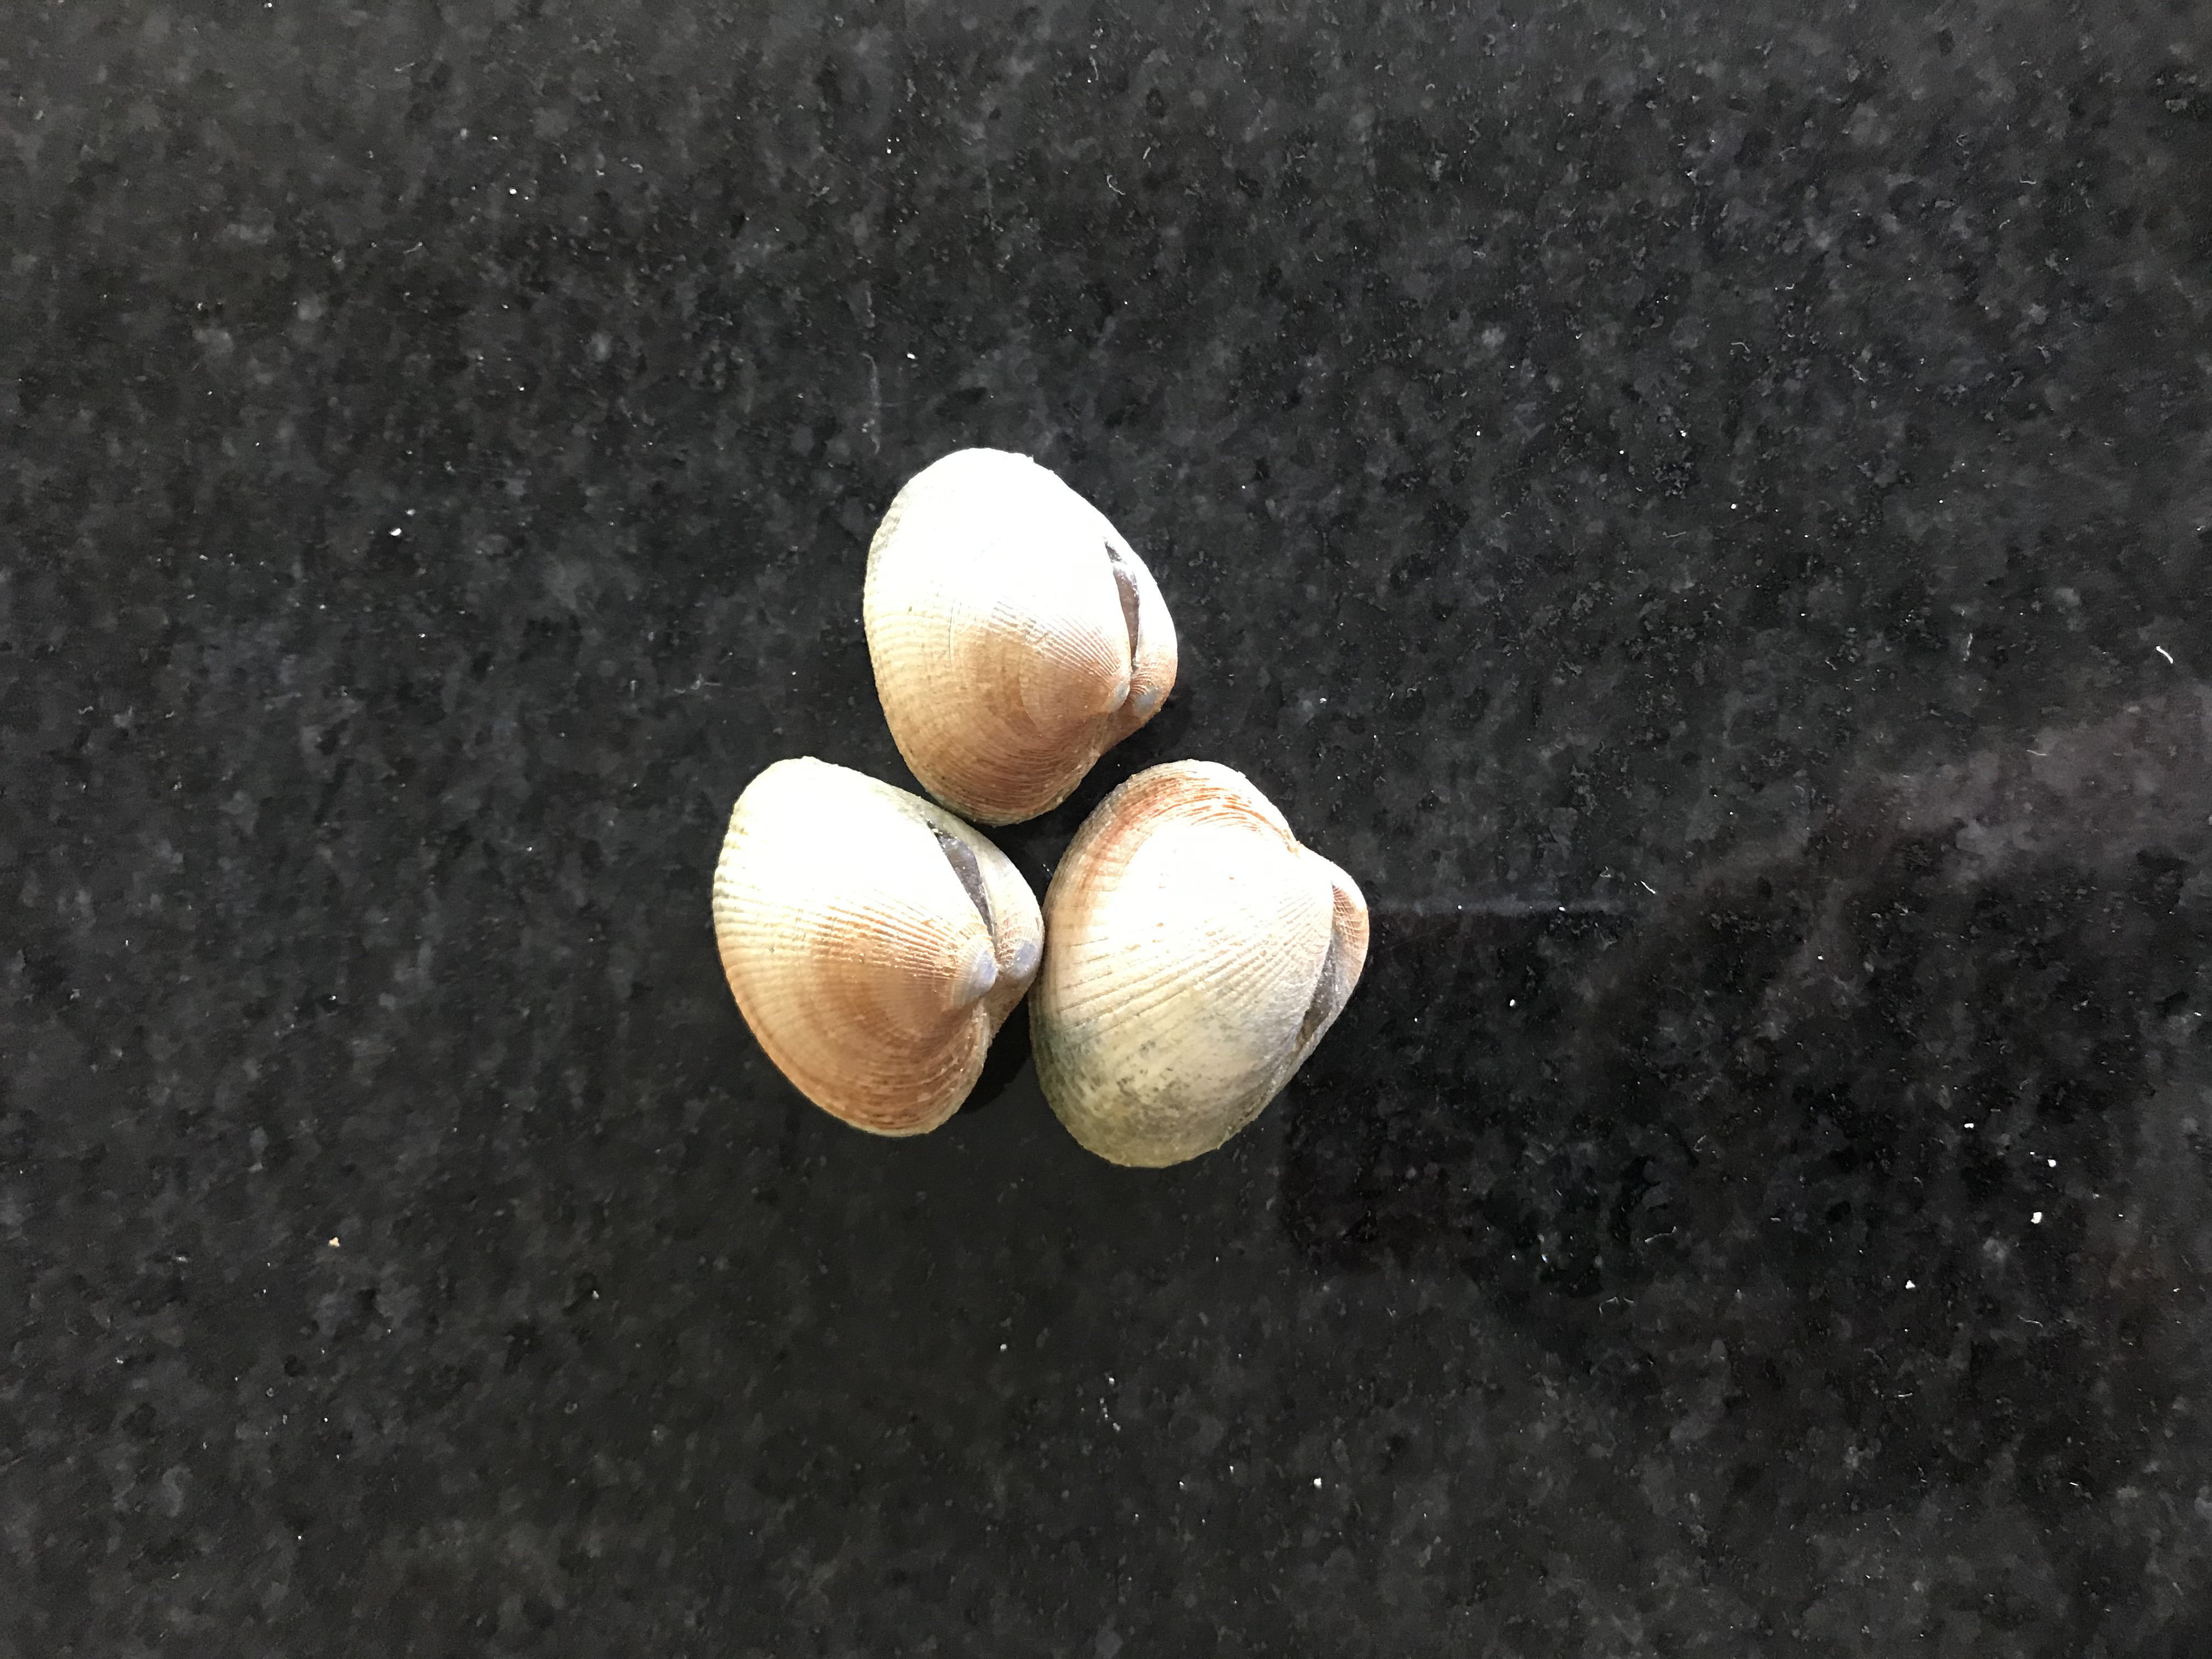cockle: (1019, 756, 1393, 1190), (700, 751, 1045, 1148), (857, 437, 1191, 831)
